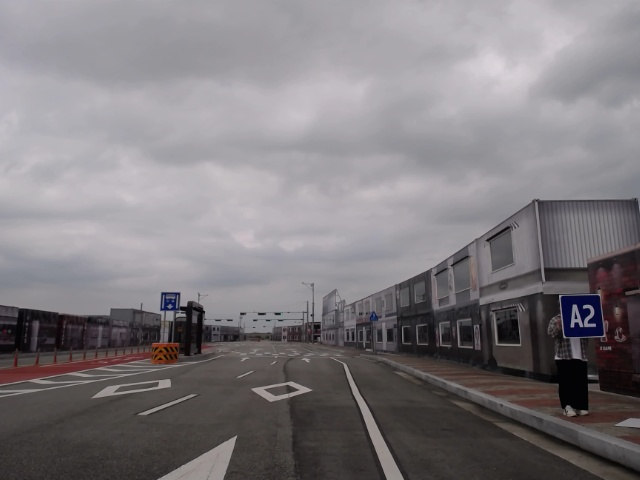delivery_a2: (560, 294, 605, 338)
